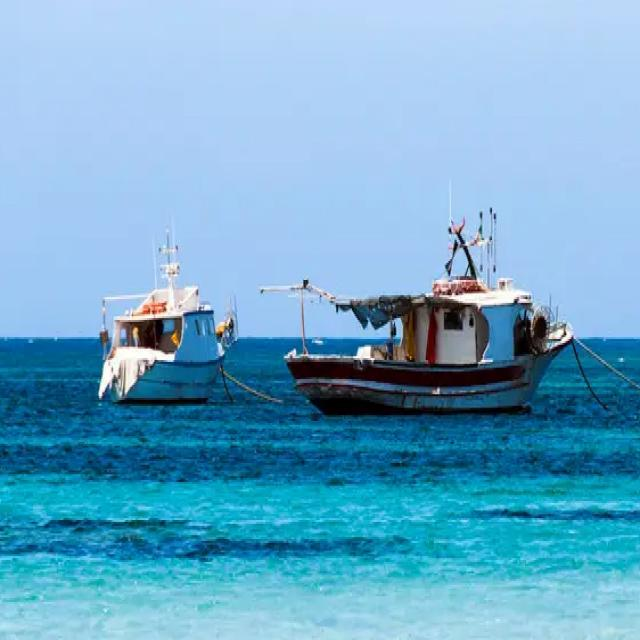fishing boat: (277, 207, 576, 409), (93, 224, 241, 401)
